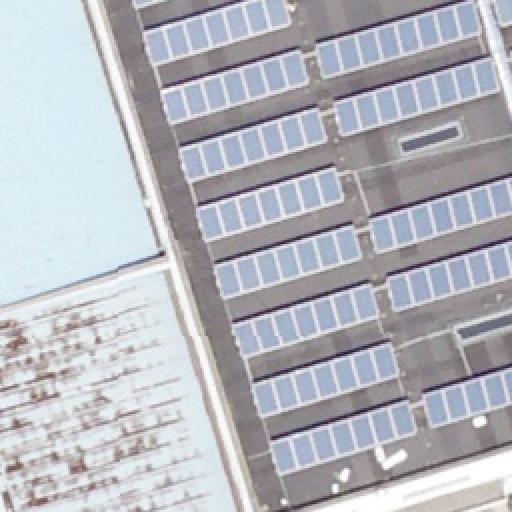solar-panel: (330, 55, 502, 137), (315, 0, 485, 80), (268, 395, 420, 477), (253, 339, 403, 421), (178, 104, 330, 184), (197, 164, 347, 244), (161, 48, 311, 128), (234, 282, 382, 362), (213, 221, 363, 299), (368, 176, 512, 252), (142, 0, 294, 68), (384, 239, 512, 313), (417, 364, 511, 432), (134, 0, 174, 12), (496, 0, 512, 24)
